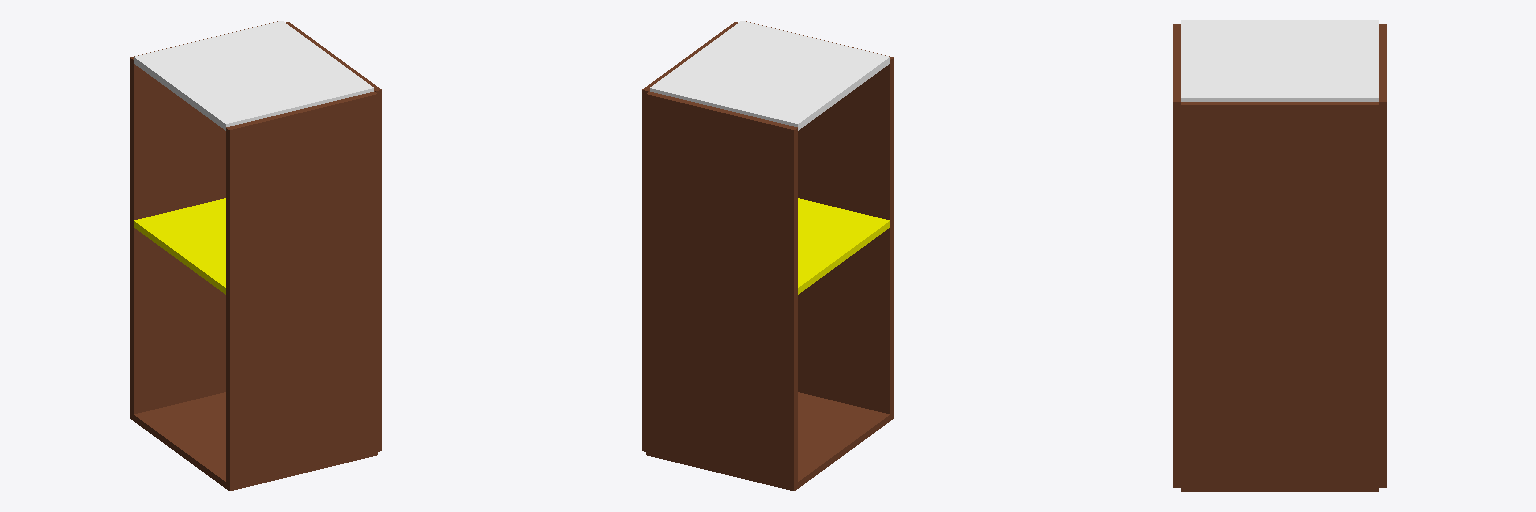
robot.urdf — cabinet_model:
<robot name="cabinet_model">
  <material name="brown"><color rgba="0.5 0.3 0.2 1"/></material>
  <material name="glass"><color rgba="1 1 1 0"/></material>
  <material name="mid"><color rgba="1 1 0 0.9"/></material>
  <link name="cabinet_bottom_plate">
    <inertial>
      <mass value="20.0" />
      <origin xyz="0 0 -1.0" /> 
      <inertia  ixx="2" ixy="0.0"  ixz="0.0"  iyy="2"  iyz="0.0"  izz="2" />
    </inertial>
    <visual>
      <origin xyz="0 0 0.01" rpy="0 0 0" />
      <geometry>
        <box size="0.465 0.50 0.020"/>
      </geometry>
      <material name="brown"/>
    </visual>
    <collision>
      <origin xyz="0 0 0.01" rpy="0 0 0" />
      <geometry>
        <box size="0.465 0.50 0.020"/>
      </geometry>
    </collision>
  </link>
  <link name="cabinet_middle_plate">
    <inertial>
      <mass value="1.0" />
      <origin xyz="0 0 0.0" /> 
      <inertia  ixx="0.01" ixy="0.0"  ixz="0.0"  iyy="0.01"  iyz="0.0"  izz="0.01" />
    </inertial>
    <visual>
      <origin xyz="0 0 0.59" rpy="0 0 0" />
      <geometry>
        <box size="0.465 0.50 0.020"/>
      </geometry>
      <material name="mid"/>
    </visual>
    <collision>
      <origin xyz="0 0 0.59" rpy="0 0 0" />
      <geometry>
        <box size="0.465 0.50 0.020"/>
      </geometry>
    </collision>
  </link>
  <link name="cabinet_top_plate">
    <inertial>
      <mass value="1.0" />
      <origin xyz="0 0 0.0" /> 
      <inertia  ixx="0.01" ixy="0.0"  ixz="0.0"  iyy="0.01"  iyz="0.0"  izz="0.01" />
    </inertial>
    <visual>
      <origin xyz="0 0 1.08" rpy="0 0 0" />
      <geometry>
        <box size="0.465 0.50 0.020"/>
      </geometry>
      <material name="glass"/>
    </visual>
    <collision>
      <origin xyz="0 0 1.08" rpy="0 0 0" />
      <geometry>
        <box size="0.465 0.50 0.020"/>
      </geometry>
    </collision>
  </link>
  <link name="cabinet_left_plate">
    <inertial>
      <mass value="1.0" />
      <origin xyz="0 0 0.0" /> 
      <inertia  ixx="0.01" ixy="0.0"  ixz="0.0"  iyy="0.01"  iyz="0.0"  izz="0.01" />
    </inertial>
    <visual>
      <origin xyz="0 0.26 0.54" rpy="0 0 0" />
      <geometry>
        <box size="0.465 0.02 1.08"/>
      </geometry>
      <material name="brown"/>
    </visual>
    <collision>
      <origin xyz="0 0.26 0.54" rpy="0 0 0" />
      <geometry>
        <box size="0.465 0.02 1.08"/>
      </geometry>
    </collision>
  </link>
  <link name="cabinet_right_plate">
    <inertial>
      <mass value="1.0" />
      <origin xyz="0 0 0.0" /> 
      <inertia  ixx="0.01" ixy="0.0"  ixz="0.0"  iyy="0.01"  iyz="0.0"  izz="0.01" />
    </inertial>
    <visual>
      <origin xyz="0 -0.26 0.54" rpy="0 0 0" />
      <geometry>
        <box size="0.465 0.02 1.08"/>
      </geometry>
      <material name="brown"/>
    </visual>
    <collision>
      <origin xyz="0 -0.26 0.54" rpy="0 0 0" />
      <geometry>
        <box size="0.465 0.02 1.08"/>
      </geometry>
    </collision>
  </link>
  <link name="cabinet_back_plate">
    <inertial>
      <mass value="1.0" />
      <origin xyz="0 0 -5" /> 
      <inertia  ixx="0.01" ixy="0.0"  ixz="0.0"  iyy="0.01"  iyz="0.0"  izz="0.01" />
    </inertial>
    <visual>
      <origin xyz="0.245 0 0.54" rpy="0 0 0" />
      <geometry>
        <box size="0.02 0.504 1.08"/>
      </geometry>
      <material name="brown"/>
    </visual>
    <collision>
      <origin xyz="0.245 0 0.54" rpy="0 0 0" />
      <geometry>
        <box size="0.02 0.504 1.08"/>
      </geometry>
    </collision>
  </link>
  <joint name="middle_plate" type="fixed">
    <parent link="cabinet_bottom_plate"/>
    <child link="cabinet_middle_plate"/>
    <origin xyz="0 0 0"/>
  </joint>
  <joint name="top_plate" type="fixed">
    <parent link="cabinet_bottom_plate"/>
    <child link="cabinet_top_plate"/>
    <origin xyz="0 0 0"/>
  </joint>
  <joint name="left_plate" type="fixed">
    <parent link="cabinet_bottom_plate"/>
    <child link="cabinet_left_plate"/>
    <origin xyz="0 0 0"/>
  </joint>
  <joint name="right_plate" type="fixed">
    <parent link="cabinet_bottom_plate"/>
    <child link="cabinet_right_plate"/>
    <origin xyz="0 0 0"/>
  </joint>
  <joint name="back_plate" type="fixed">
    <parent link="cabinet_bottom_plate"/>
    <child link="cabinet_back_plate"/>
    <origin xyz="0 0 0"/>
  </joint>
  <gazebo reference="cabinet_bottom_plate">
    <mu1>100.0</mu1>
    <mu2>100.0</mu2>
  </gazebo>
  <gazebo>
    <static>true</static>
  </gazebo>
</robot>

--- What the picture shows (computed from the rendered views, not written in the file) ---
3 views of the same robot in one strip: view 1: azimuth 30°, elevation 25°; view 2: azimuth 150°, elevation 25°; view 3: azimuth 270°, elevation 25° (orthographic).
Model cabinet_model with 6 links and 5 joints (5 fixed), rooted at cabinet_bottom_plate, posed all joints at 0.
Visible links, largest first — view 1: cabinet_right_plate, cabinet_left_plate, cabinet_top_plate, cabinet_bottom_plate, cabinet_middle_plate, cabinet_back_plate; view 2: cabinet_left_plate, cabinet_right_plate, cabinet_top_plate, cabinet_bottom_plate, cabinet_middle_plate, cabinet_back_plate; view 3: cabinet_back_plate, cabinet_top_plate, cabinet_left_plate, cabinet_right_plate.
Link boxes in pixels (x1,y1,x2,y2): cabinet_right_plate: (226, 91, 377, 490); cabinet_left_plate: (130, 21, 277, 420); cabinet_top_plate: (134, 21, 373, 130); cabinet_bottom_plate: (134, 392, 225, 488); cabinet_middle_plate: (134, 198, 225, 294); cabinet_back_plate: (286, 22, 381, 451); cabinet_left_plate: (646, 91, 797, 490); cabinet_right_plate: (746, 21, 893, 420); cabinet_top_plate: (650, 21, 889, 130); cabinet_bottom_plate: (798, 392, 889, 488); cabinet_middle_plate: (798, 198, 889, 294); cabinet_back_plate: (642, 22, 737, 451); cabinet_back_plate: (1181, 102, 1378, 491); cabinet_top_plate: (1181, 20, 1378, 101); cabinet_left_plate: (1379, 24, 1386, 487); cabinet_right_plate: (1173, 24, 1180, 487).
Size in the robot's own frame: 0.4875 by 0.54 by 1.09 metres.
Geometry: primitives only (box / cylinder / sphere), no mesh files.